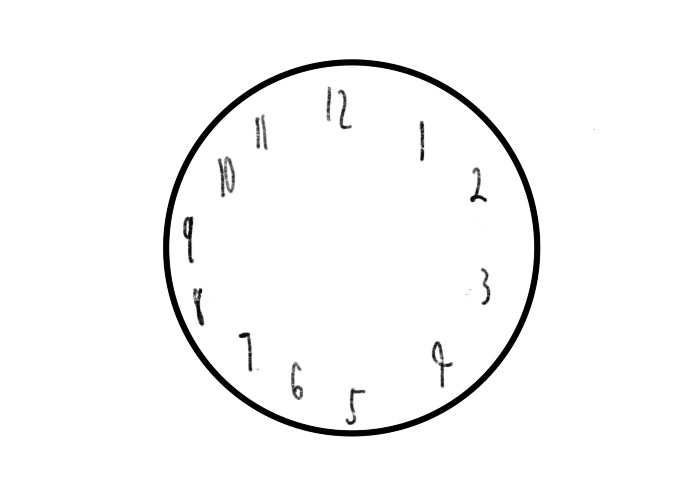eight: (190, 282, 208, 331)
eleven: (250, 115, 272, 153)
five: (344, 382, 367, 424)
four: (427, 335, 455, 389)
nine: (181, 207, 199, 267)
one: (415, 114, 430, 161)
seven: (233, 326, 259, 372)
six: (289, 358, 304, 403)
ten: (213, 153, 237, 203)
three: (476, 259, 494, 307)
twelve: (324, 84, 354, 131)
two: (467, 164, 487, 205)
